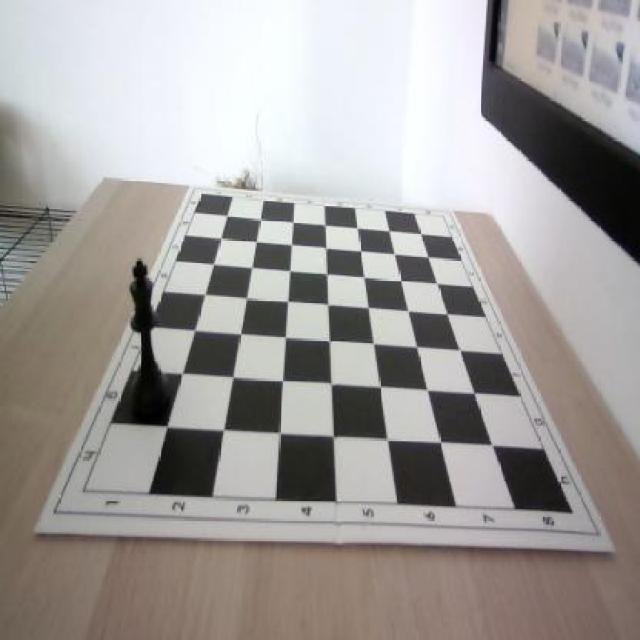black-bishop: (129, 258, 170, 426)
